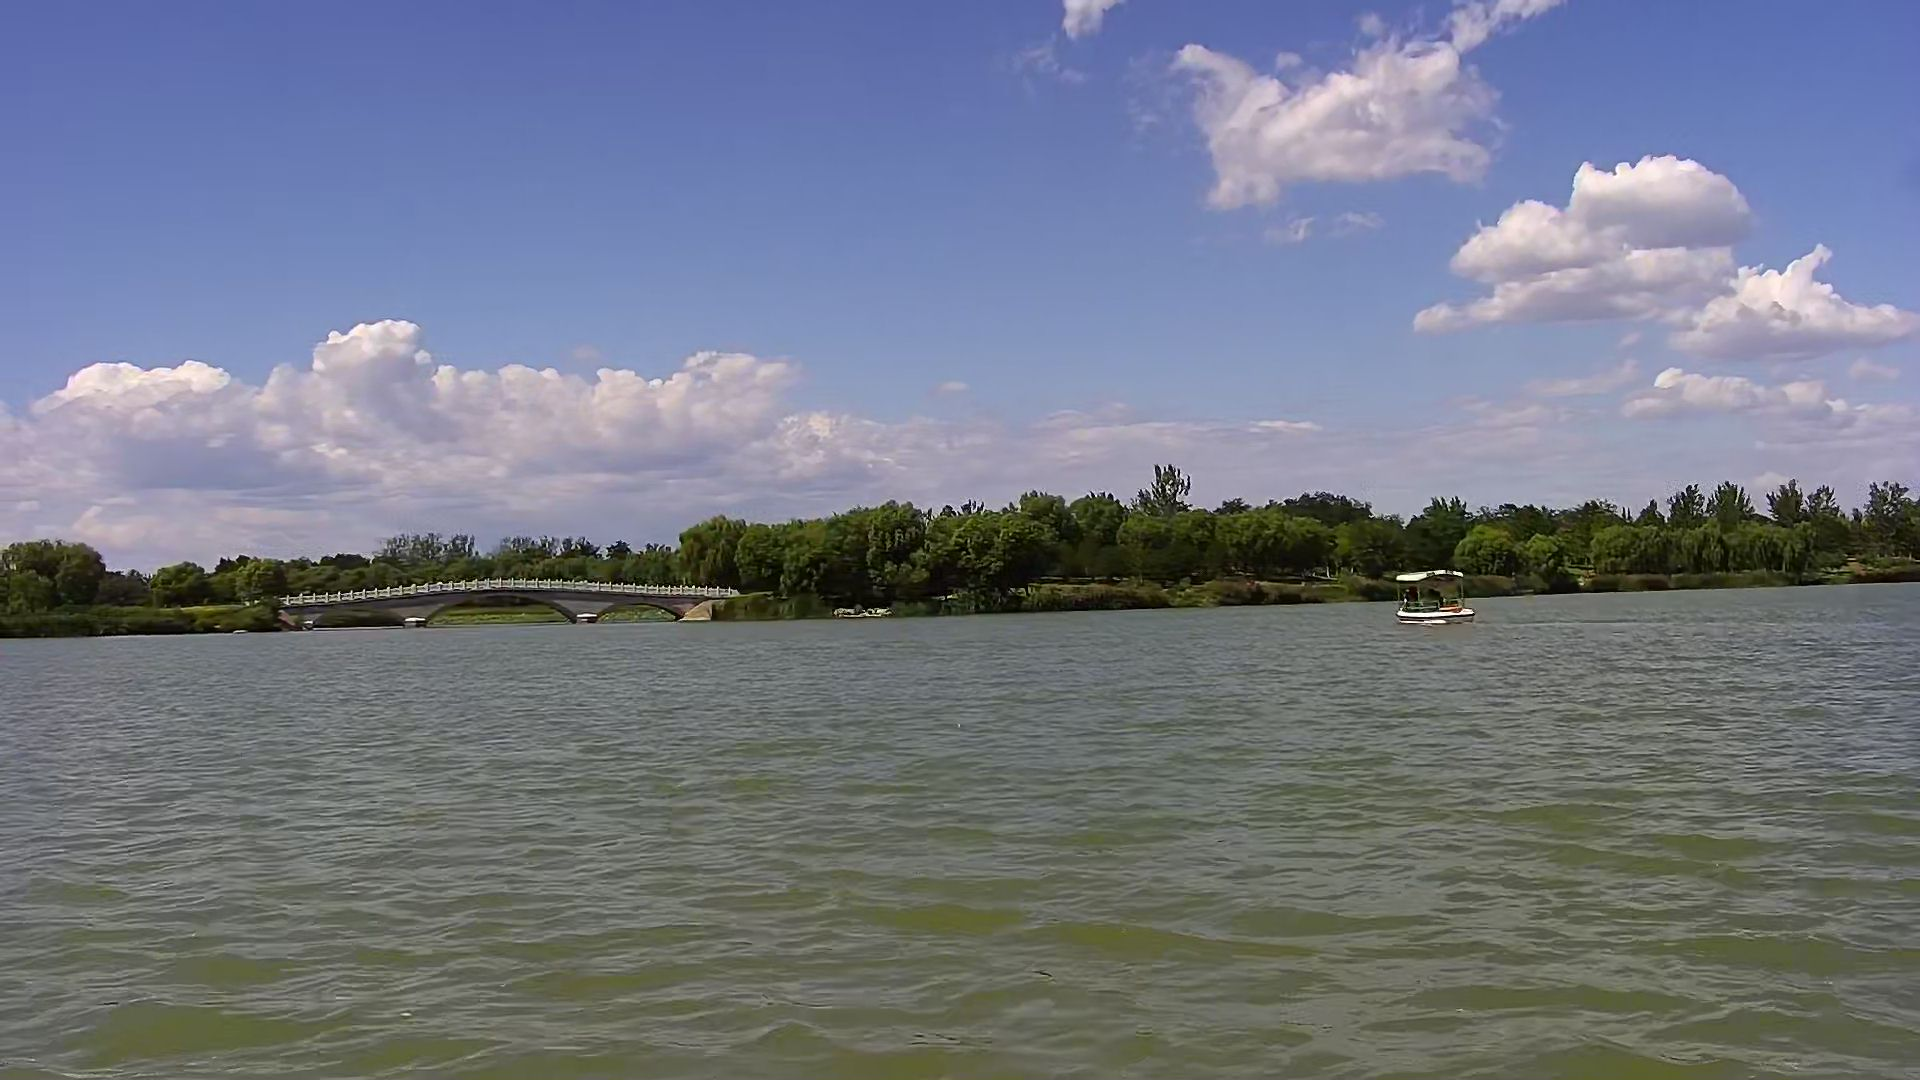boat: (1393, 564, 1477, 630)
bridge: (291, 579, 709, 628)
